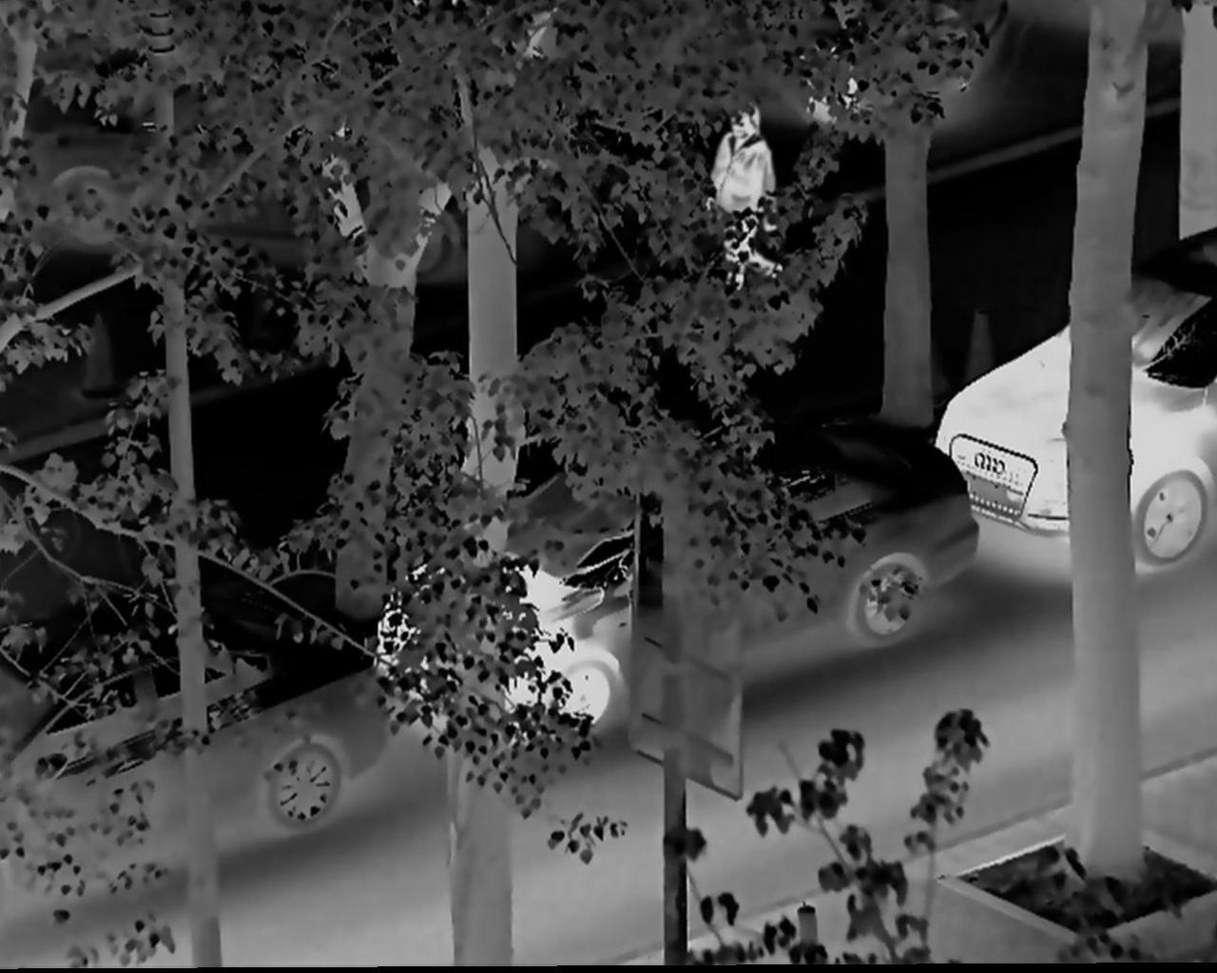person: (699, 91, 786, 304)
